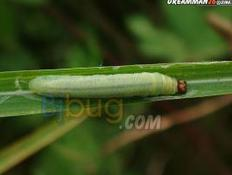pest: (30, 73, 177, 100)
